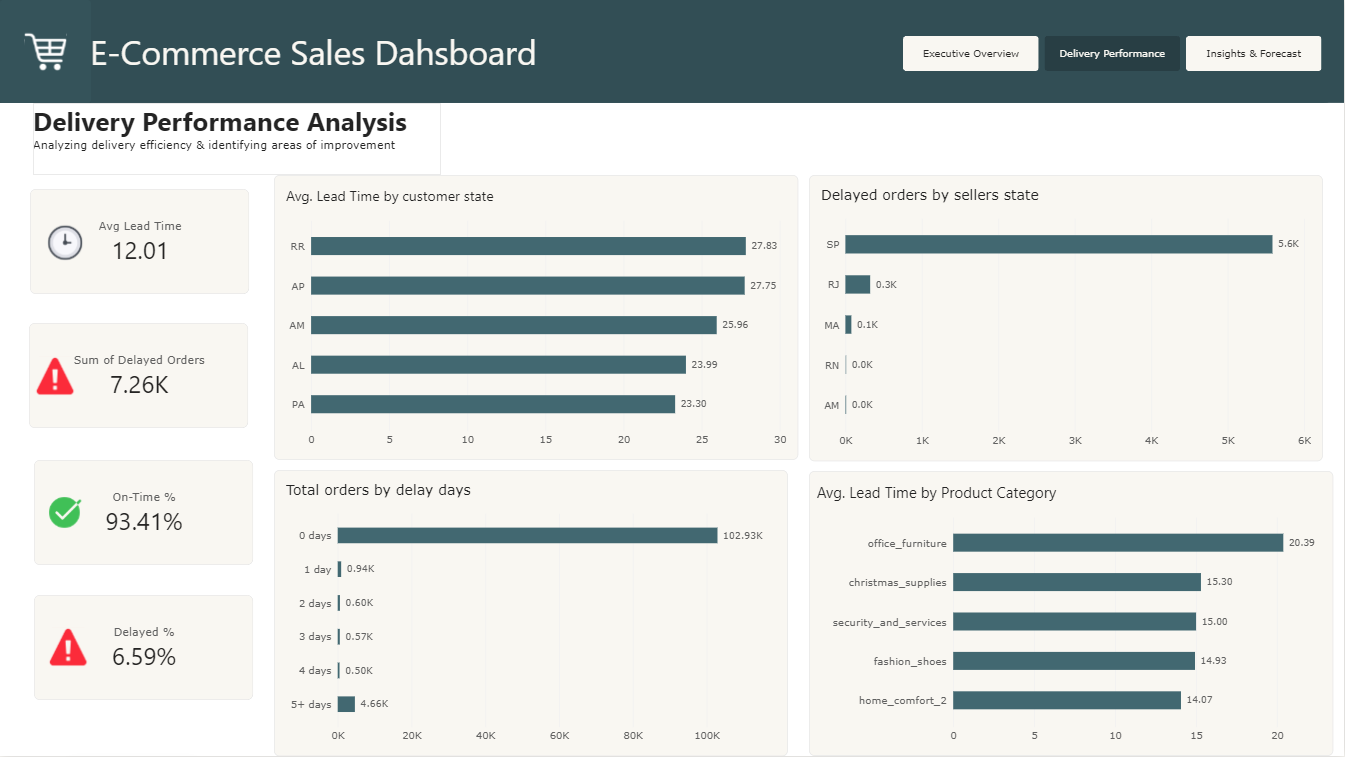

The dashboard page shown, as its layout file describes it:
{"tool":"powerbi","page":{"name":"Delivery Performance","canvas":[1920,1080],"ordinal":1},"visuals":[{"type":"group","id":"g1","title":"Group 3","box":[0,0,1920,249.5],"z":0,"group":"g2"},{"type":"clusteredBarChart","title":"Avg. Lead Time by customer state","fields":{"Category":["olist_supply_chain_cleaned.customer_state"],"Y":["olist_supply_chain_cleaned.Avg Lead Time"]},"box":[391.9,249.5,748.5,407.4],"z":0},{"type":"cardVisual","fields":{"Data":["olist_supply_chain_cleaned.Avg Lead Time"]},"box":[42.8,269.4,313.8,150.2],"z":1000,"group":"g7"},{"type":"clusteredBarChart","title":"Avg. Lead Time by Product Category","fields":{"Category":["olist_supply_chain_cleaned.product_category_name_english"],"Y":["olist_supply_chain_cleaned.Avg Lead Time"]},"box":[1155.7,672.9,748.5,407.4],"z":1000},{"type":"clusteredBarChart","title":"Delayed orders by sellers state","fields":{"Category":["olist_supply_chain_cleaned.seller_state"],"Y":["Sum(olist_supply_chain_cleaned.Delayed Orders)"]},"box":[1155.7,250,734.4,408.8],"z":2000},{"type":"cardVisual","fields":{"Data":["olist_supply_chain_cleaned.On-Time %"]},"box":[47.9,657.3,313.8,150.2],"z":2000,"group":"g5"},{"type":"cardVisual","fields":{"Data":["Sum(olist_supply_chain_cleaned.is_delayed)"]},"box":[42.2,461.1,313.8,150.2],"z":3000,"group":"g8"},{"type":"clusteredBarChart","title":"Total orders by delay days","fields":{"Category":["olist_supply_chain_cleaned.Delay Bucket"],"Y":["olist_supply_chain_cleaned.Total Orders"]},"box":[391.4,671.4,734.4,408.8],"z":3000},{"type":"pageNavigator","box":[1275.7,52.9,600,60],"z":4000},{"type":"cardVisual","fields":{"Data":["olist_supply_chain_cleaned.Delayed %"]},"box":[47.9,850,313.8,150.2],"z":4000,"group":"g6"},{"type":"group","id":"g2","title":"Group 1","box":[0,0,1920,249.5],"z":5000},{"type":"group","id":"g3","title":"Group 2","box":[42.8,269.4,313.8,150.2],"z":6000},{"type":"shape","box":[0,0,1920,146.8],"z":7000,"group":"g1"},{"type":"group","id":"g4","title":"Group 5","box":[37.5,461.1,318.5,150.2],"z":7000},{"type":"group","id":"g5","title":"Group 7","box":[47.9,657.3,314.4,150.1],"z":8000},{"type":"group","id":"g6","title":"Group 8","box":[47.9,850,314.4,150.1],"z":9000},{"type":"pageNavigator","box":[1289.9,51.8,600,50],"z":10000},{"type":"actionButton","box":[0,0,130,147.3],"z":11000,"group":"g2"},{"type":"textbox","box":[47.1,147.3,583.5,102.2],"z":15001,"group":"g1"},{"type":"actionButton","box":[47.9,689.2,87.1,87.1],"z":16004,"group":"g5"},{"type":"actionButton","box":[37.5,503.2,82.9,68.6],"z":16006,"group":"g8"},{"type":"actionButton","box":[52.2,890.7,89.3,68.1],"z":16006,"group":"g6"},{"type":"actionButton","box":[47.3,304.5,92.9,81.4],"z":16008,"group":"g7"},{"type":"group","id":"g7","title":"Group 4","box":[42.8,269.4,313.8,150.2],"z":16010,"group":"g3"},{"type":"group","id":"g8","title":"Group 6","box":[37.5,461.1,318.5,150.2],"z":16011,"group":"g4"}]}

Visuals, with their boxes in screenshot pixels (x1, y1, x2, y2), scaled from the page's 1920x1080 canvas onto the 1345x757 screenshot:
"Group 3" group: [left=0, top=0, right=1344, bottom=175]
"Avg. Lead Time by customer state" clusteredBarChart: [left=275, top=175, right=799, bottom=460]
cardVisual - olist_supply_chain_cleaned.Avg Lead Time: [left=30, top=189, right=250, bottom=294]
"Avg. Lead Time by Product Category" clusteredBarChart: [left=810, top=472, right=1334, bottom=756]
"Delayed orders by sellers state" clusteredBarChart: [left=810, top=175, right=1324, bottom=462]
cardVisual - olist_supply_chain_cleaned.On-Time %: [left=34, top=461, right=253, bottom=566]
cardVisual - Sum(olist_supply_chain_cleaned.is_delayed): [left=30, top=323, right=249, bottom=428]
"Total orders by delay days" clusteredBarChart: [left=274, top=471, right=789, bottom=756]
pageNavigator: [left=894, top=37, right=1314, bottom=79]
cardVisual - olist_supply_chain_cleaned.Delayed %: [left=34, top=596, right=253, bottom=701]
"Group 1" group: [left=0, top=0, right=1344, bottom=175]
"Group 2" group: [left=30, top=189, right=250, bottom=294]
shape: [left=0, top=0, right=1344, bottom=103]
"Group 5" group: [left=26, top=323, right=249, bottom=428]
"Group 7" group: [left=34, top=461, right=254, bottom=566]
"Group 8" group: [left=34, top=596, right=254, bottom=701]
pageNavigator: [left=904, top=36, right=1324, bottom=71]
actionButton: [left=0, top=0, right=91, bottom=103]
textbox: [left=33, top=103, right=442, bottom=175]
actionButton: [left=34, top=483, right=95, bottom=544]
actionButton: [left=26, top=353, right=84, bottom=401]
actionButton: [left=37, top=624, right=99, bottom=672]
actionButton: [left=33, top=213, right=98, bottom=270]
"Group 4" group: [left=30, top=189, right=250, bottom=294]
"Group 6" group: [left=26, top=323, right=249, bottom=428]
